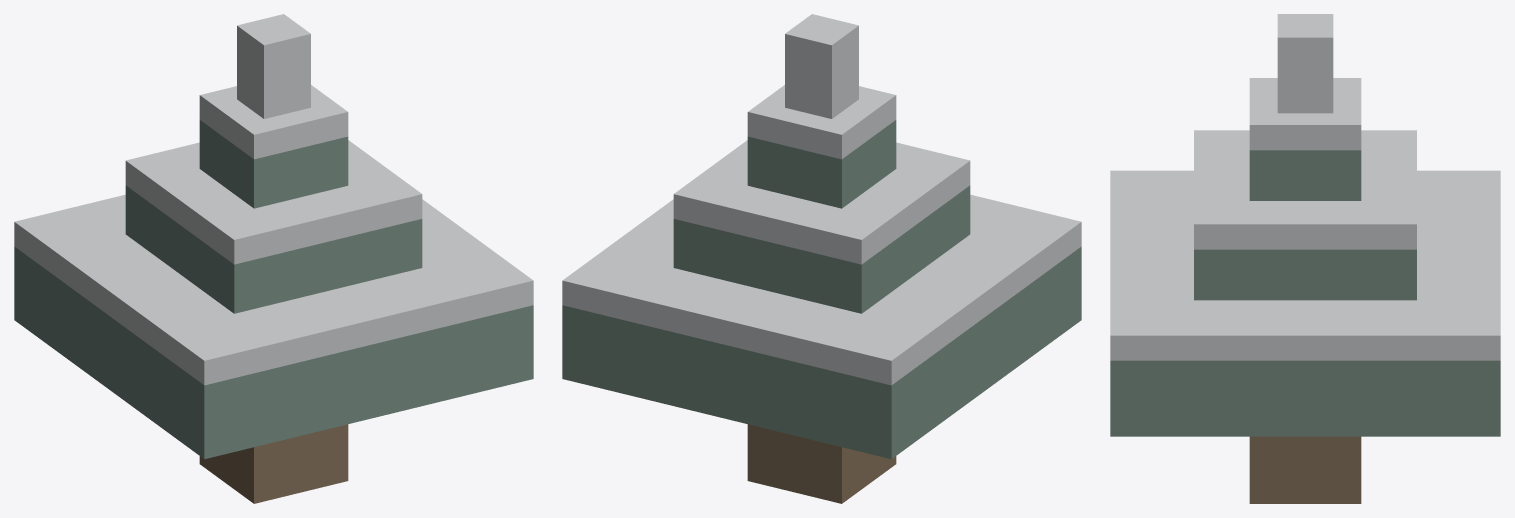
The model's file is abeto_blanco_subalpino_03.glb.
3 renders of one model, left to right at view 1: azimuth 30°, elevation 25°; view 2: azimuth 150°, elevation 25°; view 3: azimuth 270°, elevation 25°, orthographic. The views are drawn at different scales.
Parts seen in each view (by area): view 1: abeto_blanco_subalpino_03; view 2: abeto_blanco_subalpino_03; view 3: abeto_blanco_subalpino_03.
Boxes of the visible parts, left/top/right/bottom form: abeto_blanco_subalpino_03: left=14, top=14, right=533, bottom=503; abeto_blanco_subalpino_03: left=562, top=14, right=1081, bottom=503; abeto_blanco_subalpino_03: left=1110, top=14, right=1500, bottom=503.
Size of the model in its own units: 1.4 by 1.8 by 1.4.
